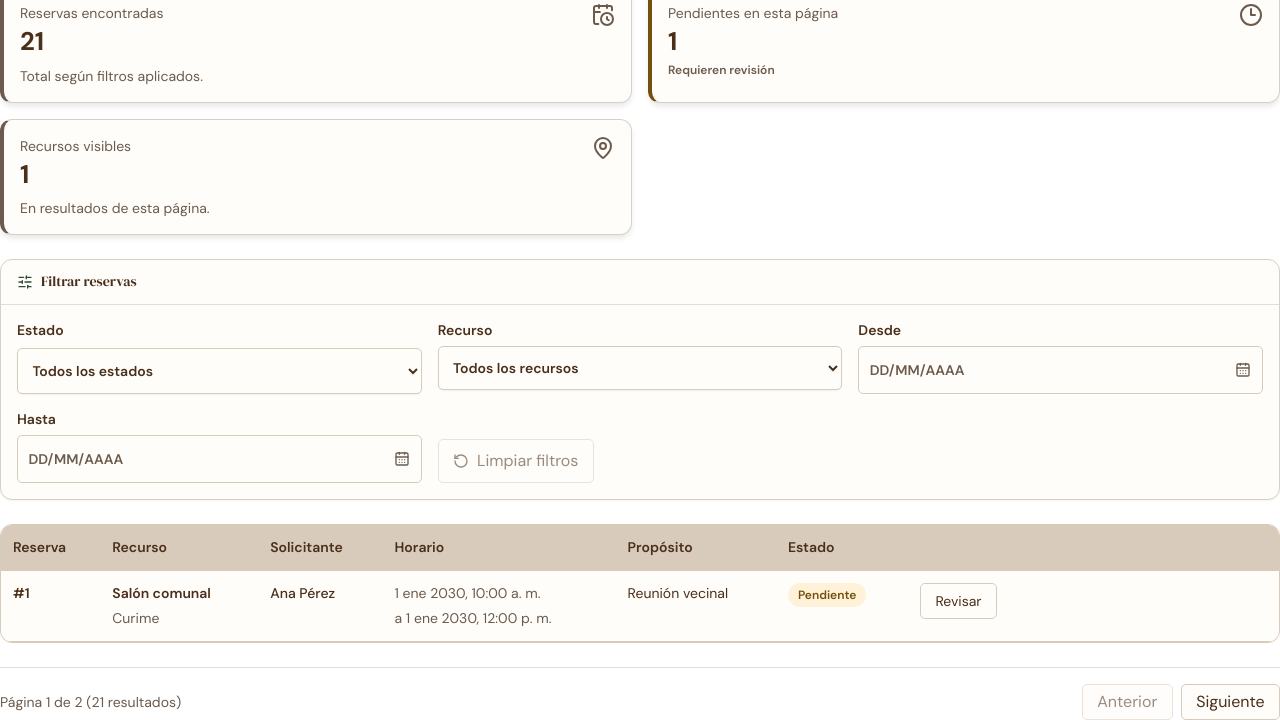
ReservationAdminPage › validates and submits rejection reason without losing it after error
(page scrolled)
Click the button "Revisar" at x=958, y=601, box [920, 583, 997, 619]
(page scrolled)
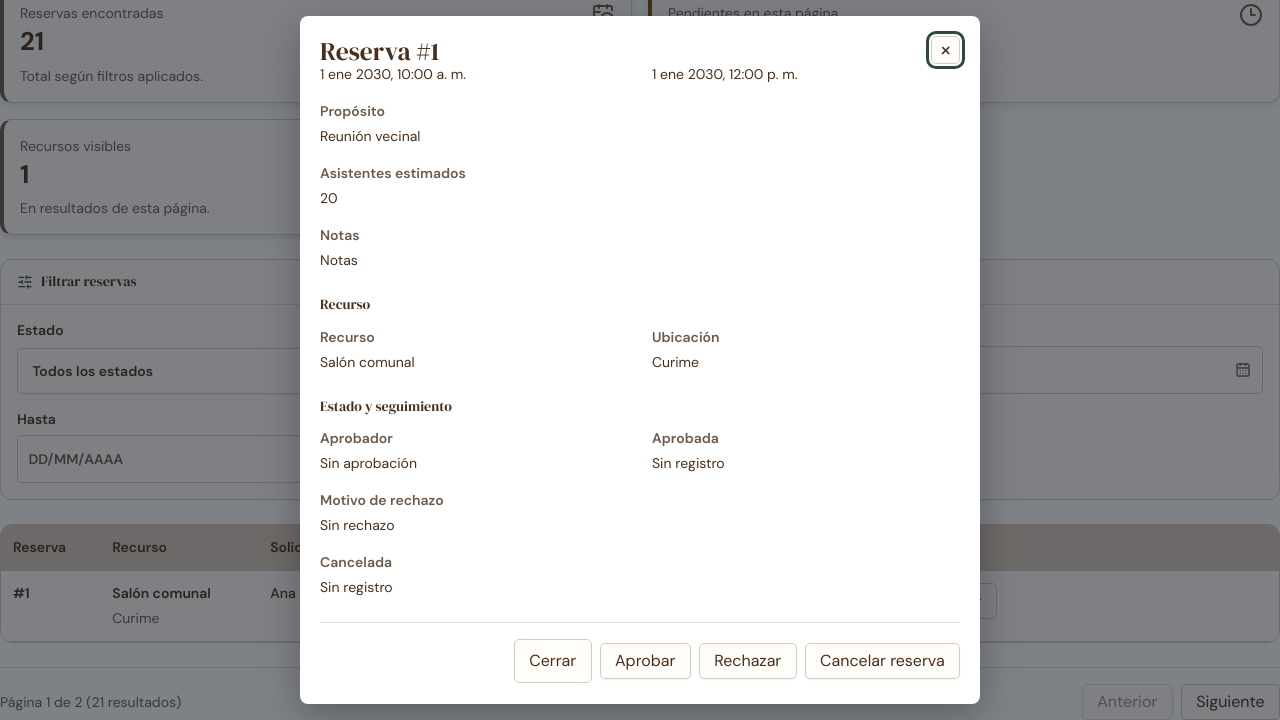
Click the button "Rechazar" at x=748, y=662, box [699, 644, 797, 680]
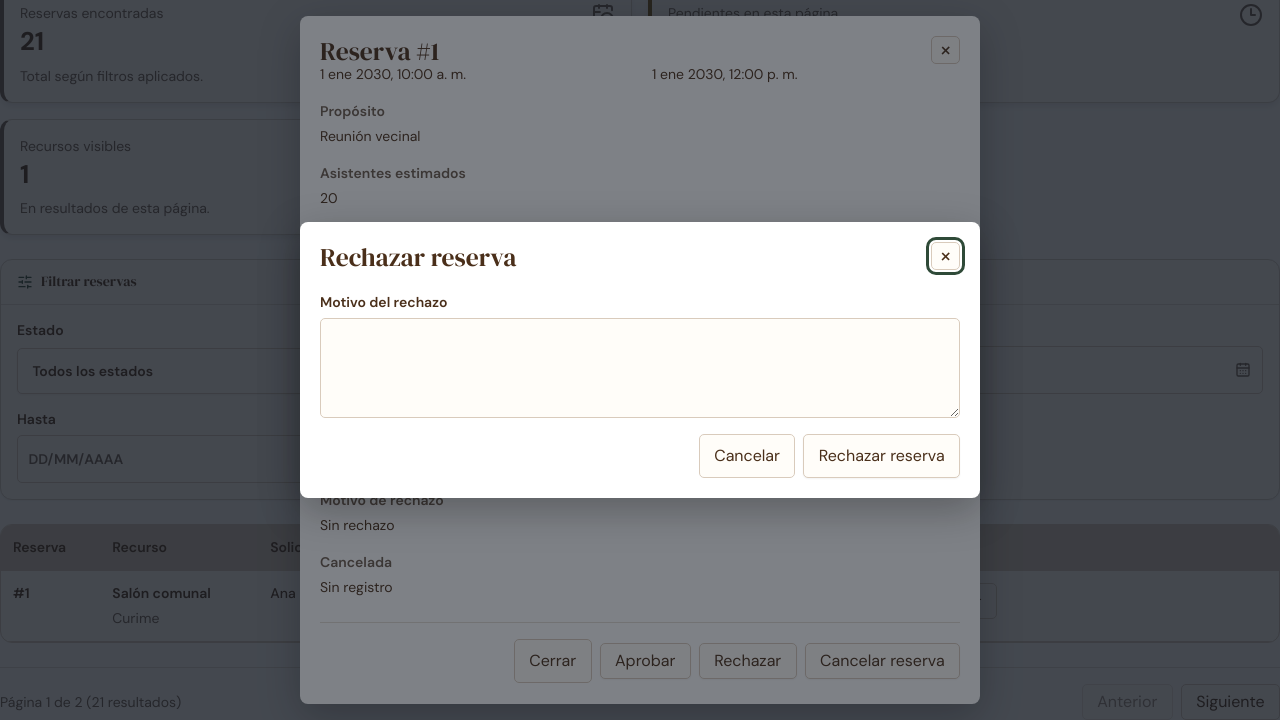
Click the button "Rechazar reserva" at x=882, y=456, box [803, 434, 960, 478]
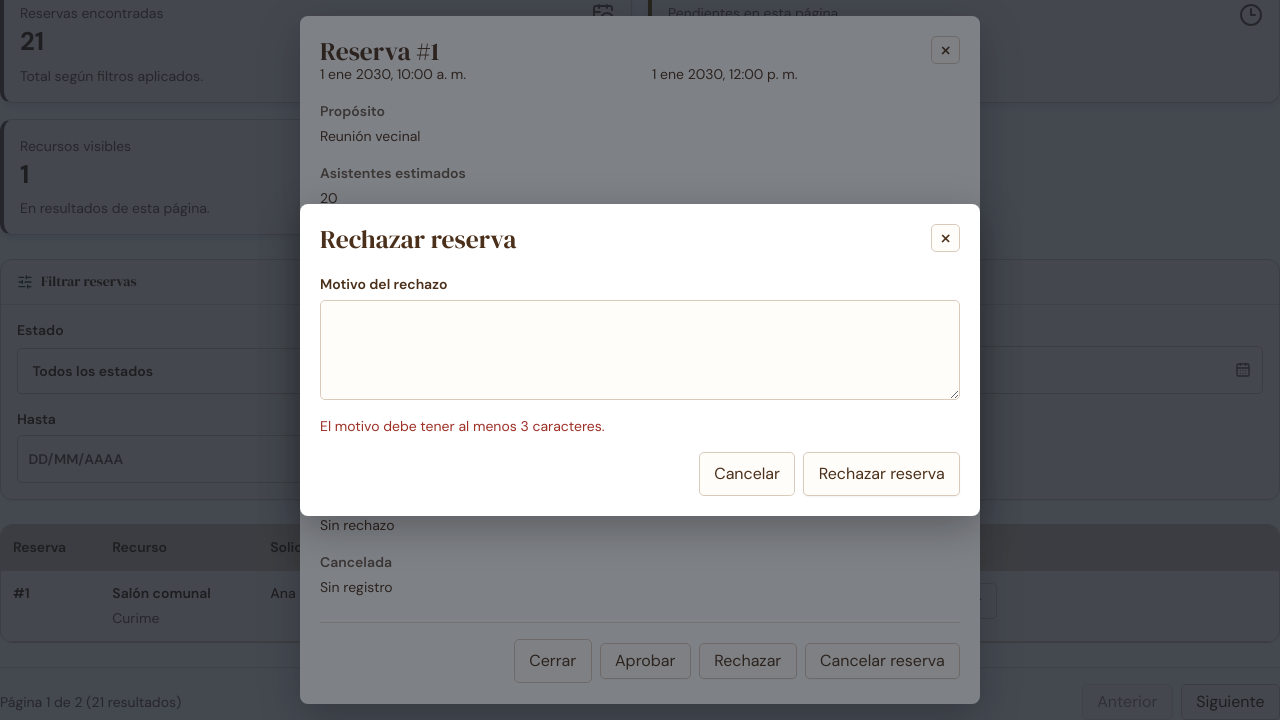
Now the text "El motivo debe tener al menos 3 caracteres." is shown, box [320, 417, 605, 435]
Type "  Horario ocupado  " into the text box labelled "Motivo del rechazo" at x=640, y=350, box [320, 300, 960, 400]
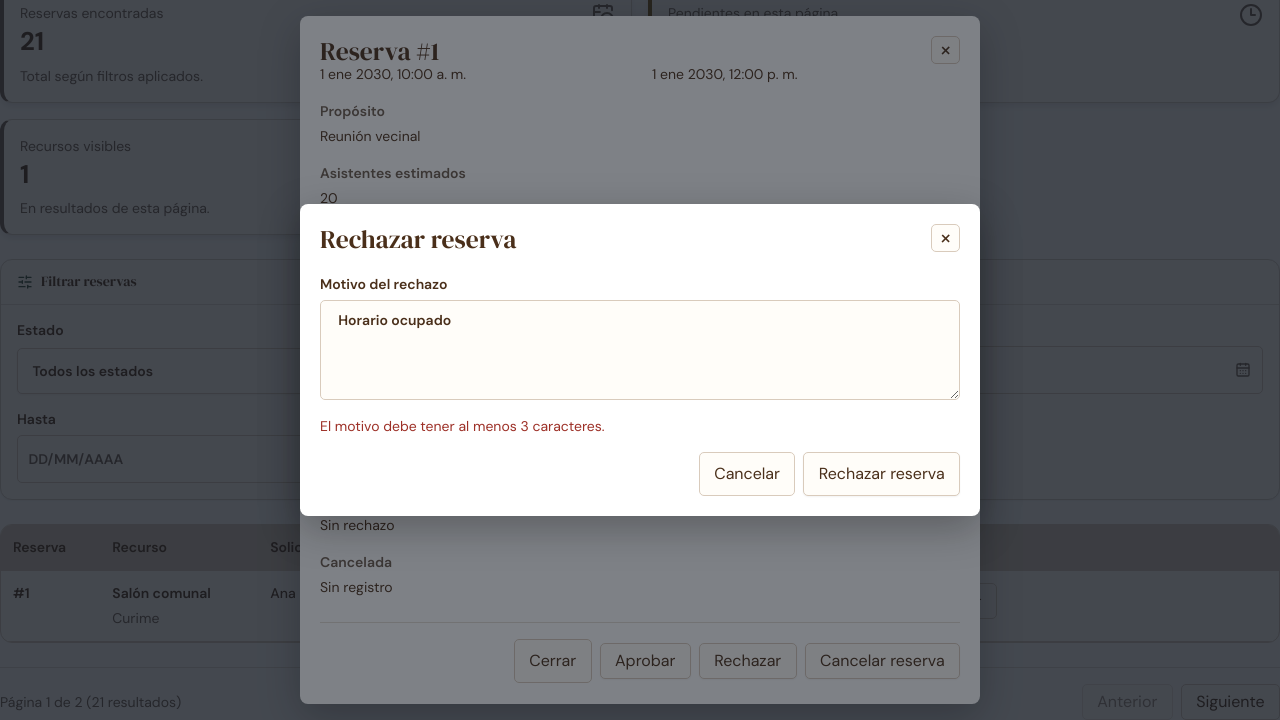
Click the button "Rechazar reserva" at x=882, y=474, box [803, 452, 960, 496]
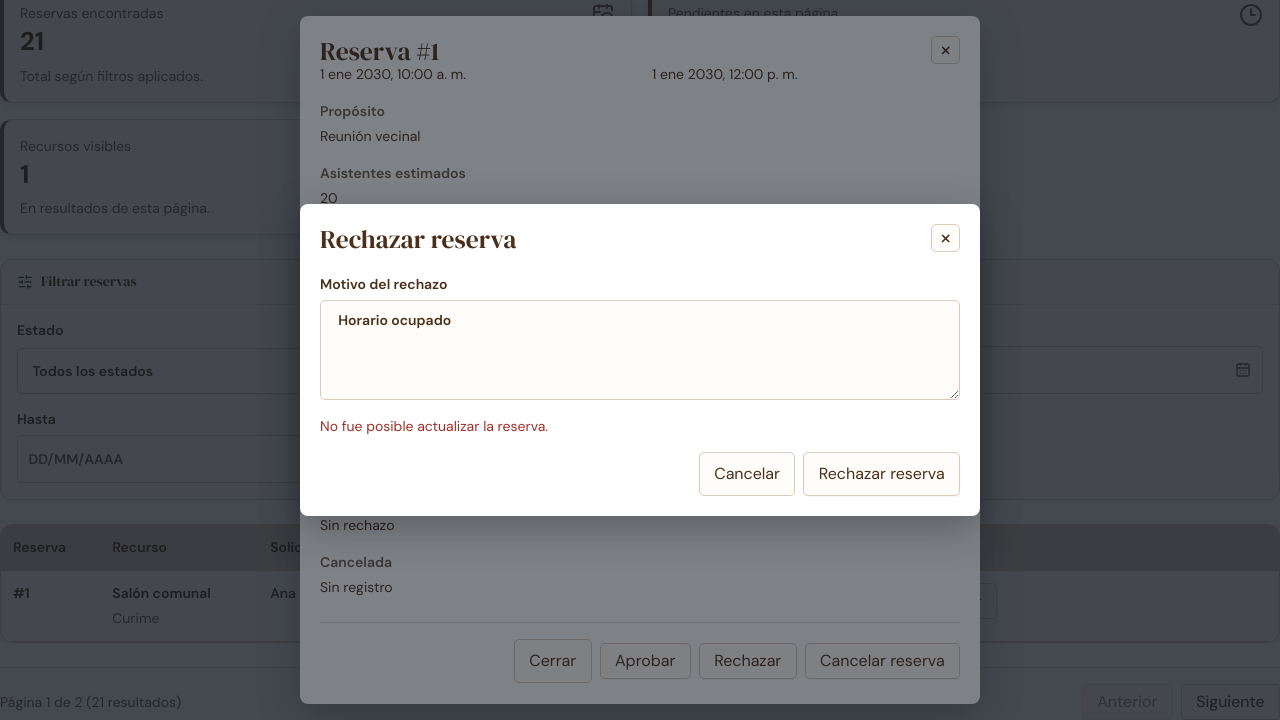
Now the message reads "No fue posible actualizar la reserva.", box [320, 417, 548, 435]
